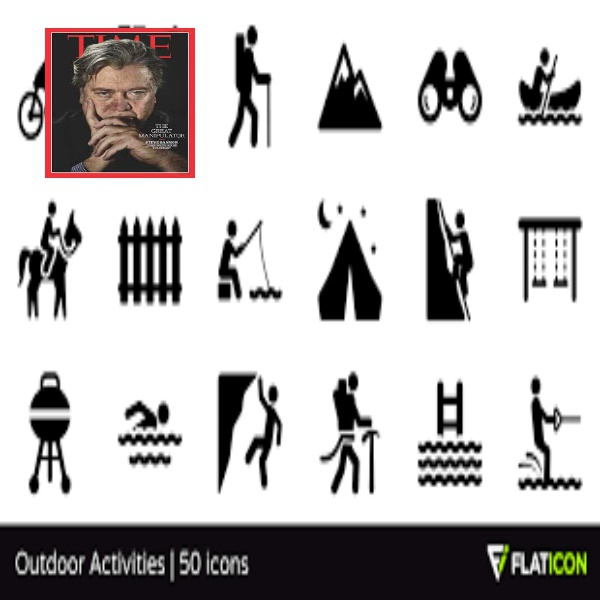time_cover: (43, 9, 195, 185)
